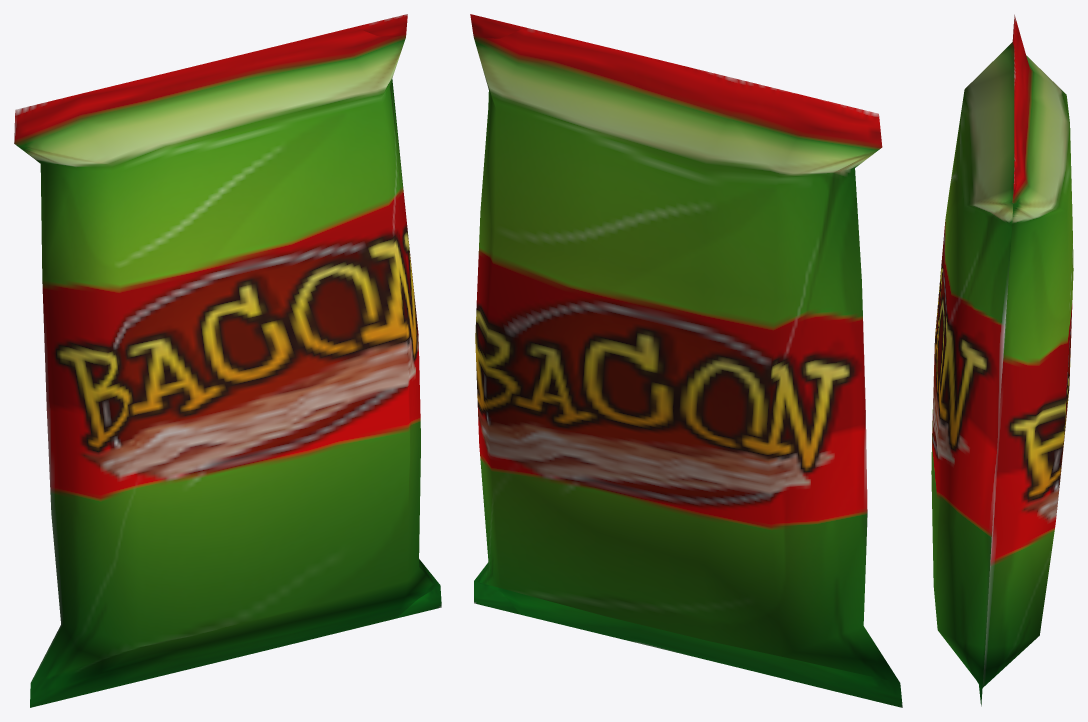
Rendered from BaconGreen.fbx.
3 views of the same model, side by side, from view 1: azimuth 30°, elevation 25°; view 2: azimuth 150°, elevation 25°; view 3: azimuth 270°, elevation 25° (orthographic). The views are drawn at different scales.
Parts seen in each view (by area): view 1: BaconGreen; view 2: BaconGreen; view 3: BaconGreen.
Part boxes in pixels (bbox=[...]): BaconGreen: bbox=[14, 14, 441, 707]; BaconGreen: bbox=[470, 14, 902, 707]; BaconGreen: bbox=[931, 14, 1073, 706].
Bounding box in the file's own units: 23.97 × 32.44 × 8.07.
